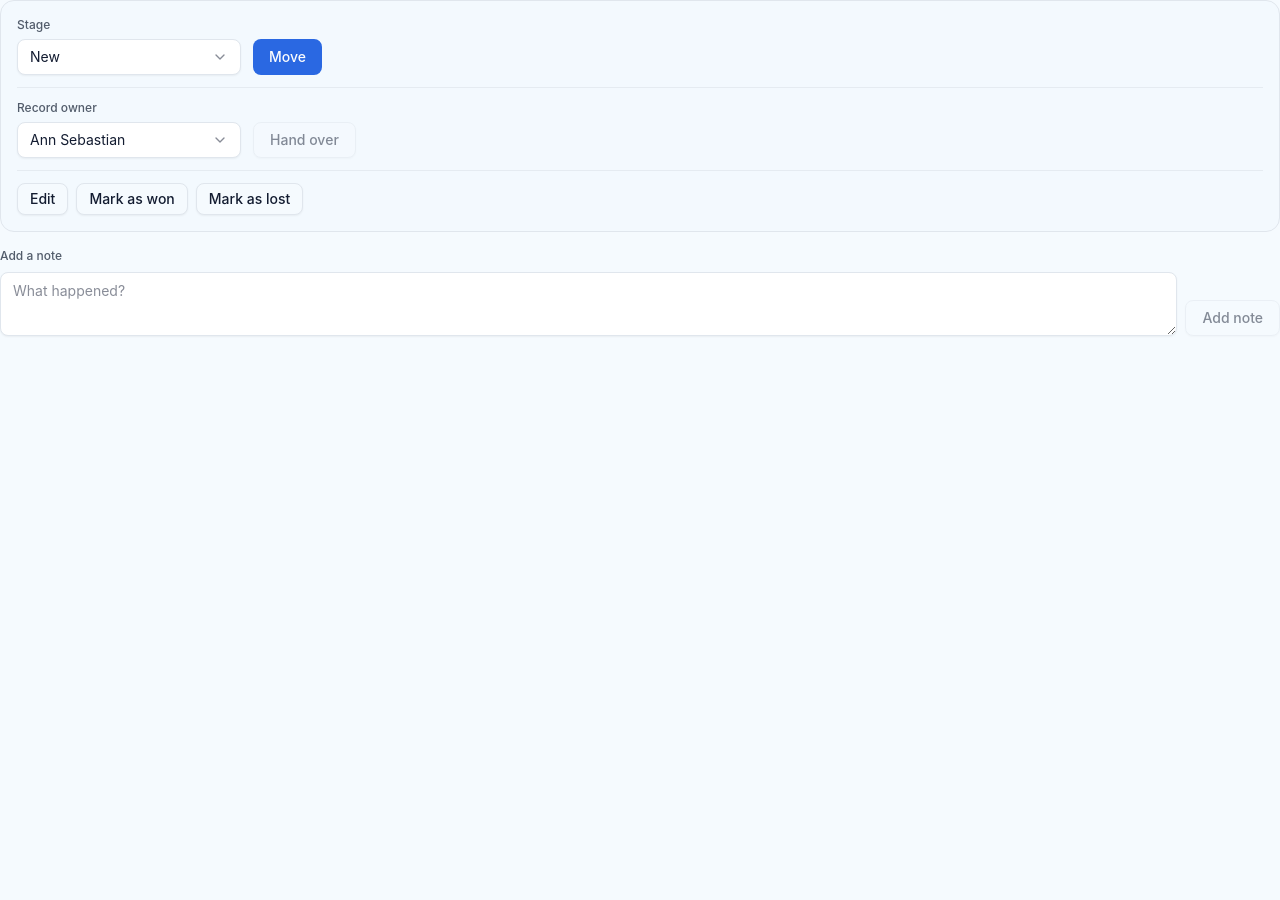
Test: §130.1: the duplicate warning, across a round trip › offers no Save anyway to someone who may not override
Click the button "Edit".
click(43, 199)  # box [17,183,68,215]
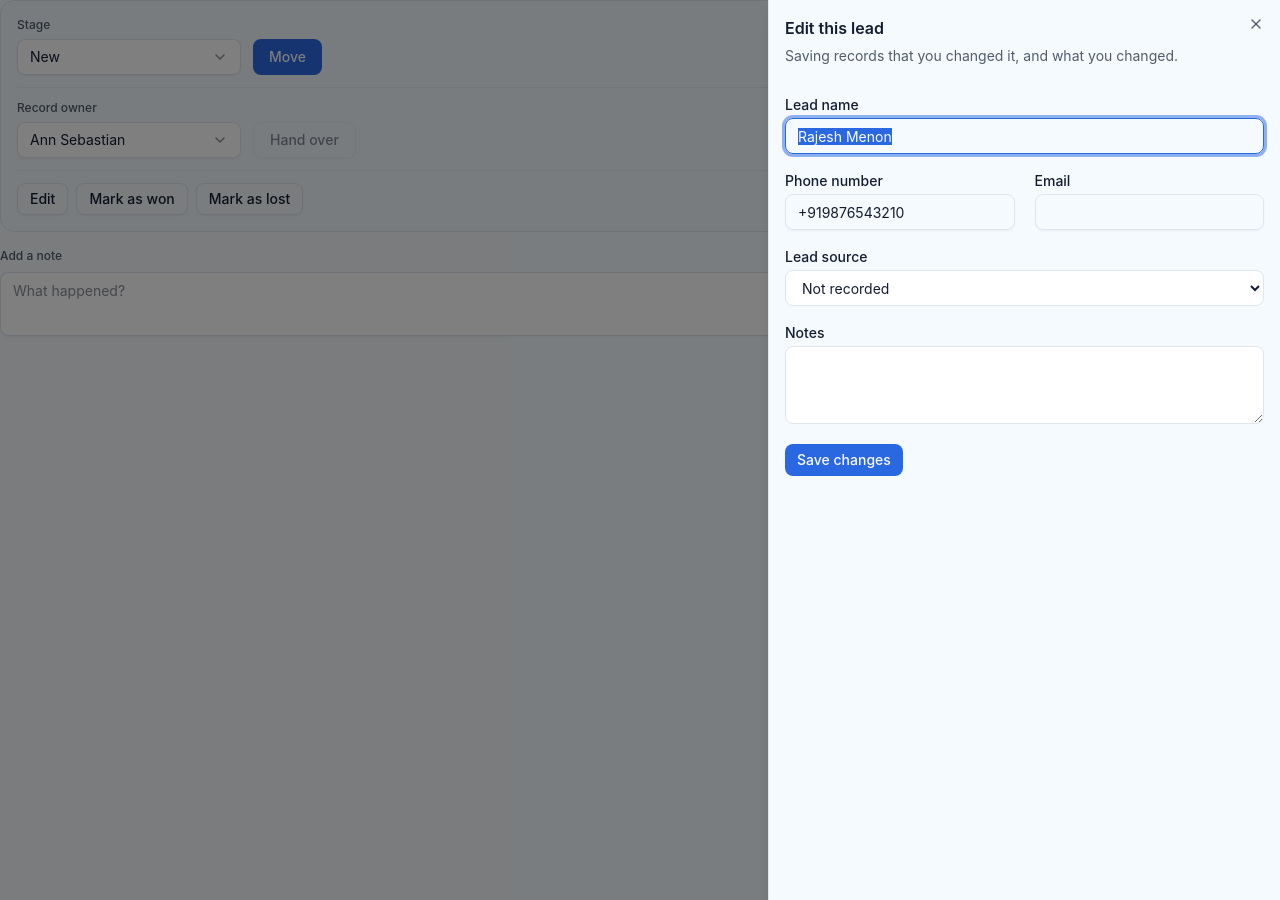
Click the button "Save changes".
click(844, 460)  # box [785,444,903,476]
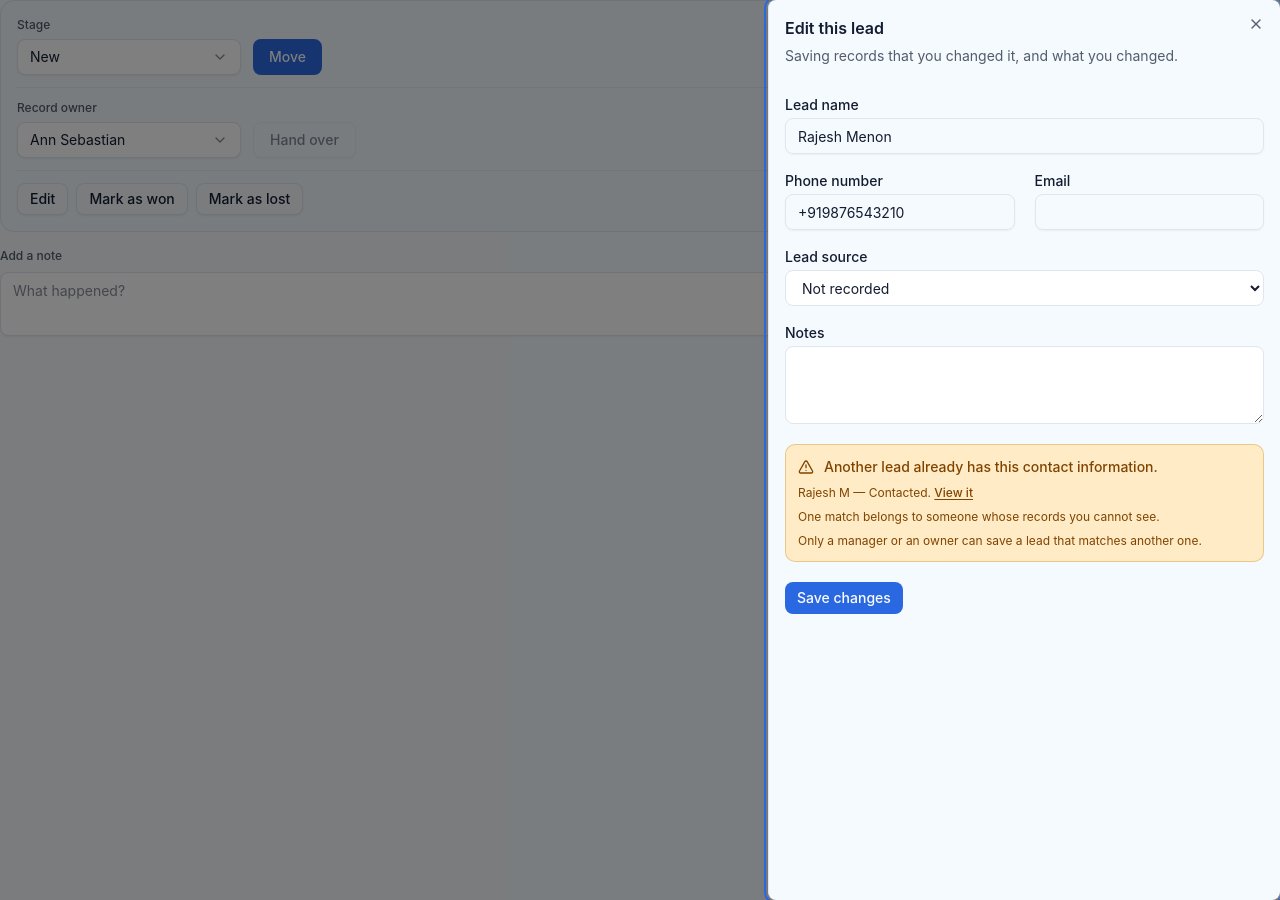
Result: the text "Another lead already has this contact information." is shown at [824,457,1158,477]
